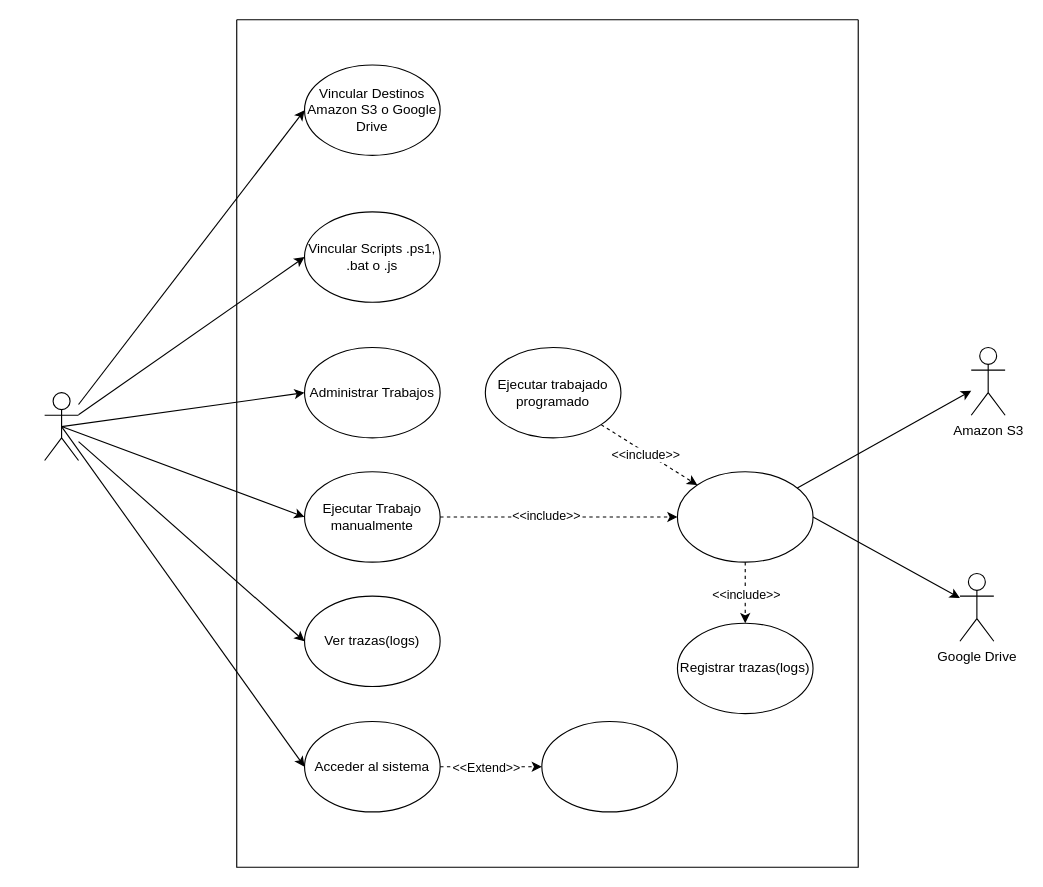
The diagram is 1043 pixels wide and 887 high, and some of its shapes have lost their labels. The shapes that lost their labels are listed below. From the top down, each one's centre as x and y in pixels, then its label:
At (x=61, y=426): "Administrador".
At (x=744, y=516): "Copiar archivo a la nube".
At (x=609, y=766): "Cambiar contraseña".
